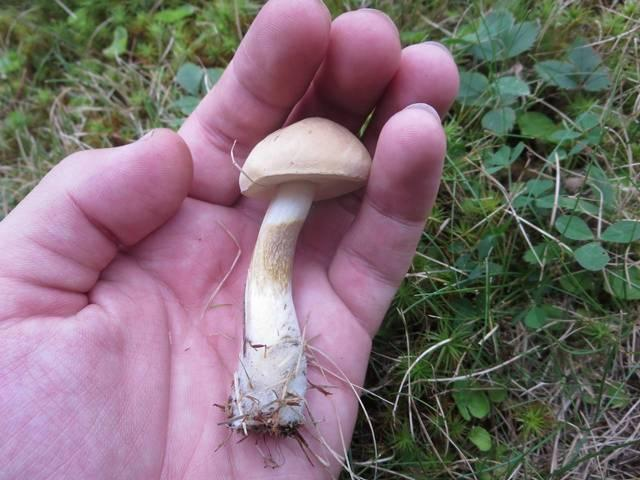edible_mushroom: (216, 115, 372, 441)
